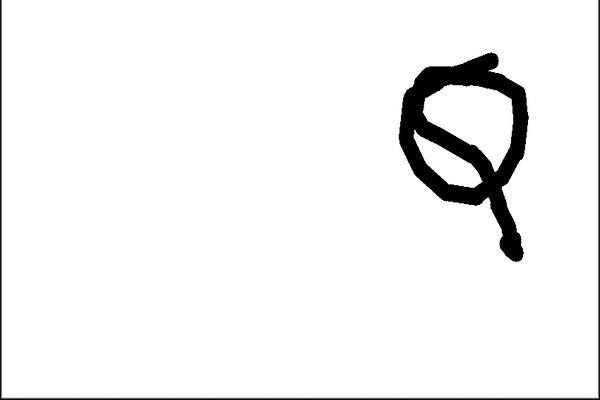Q: (386, 47, 545, 272)
